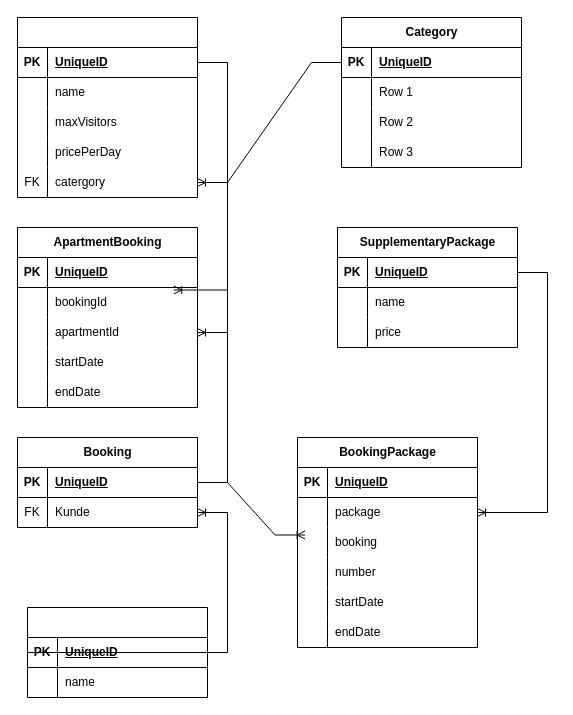
The diagram is 573 pixels wide and 715 high, and some of its shapes have lost their labels. The box of each missing label's shape, as (x1, y1, x2, y2) in pixels:
Apartment: (16, 16, 198, 198)
Customer: (26, 606, 208, 698)
